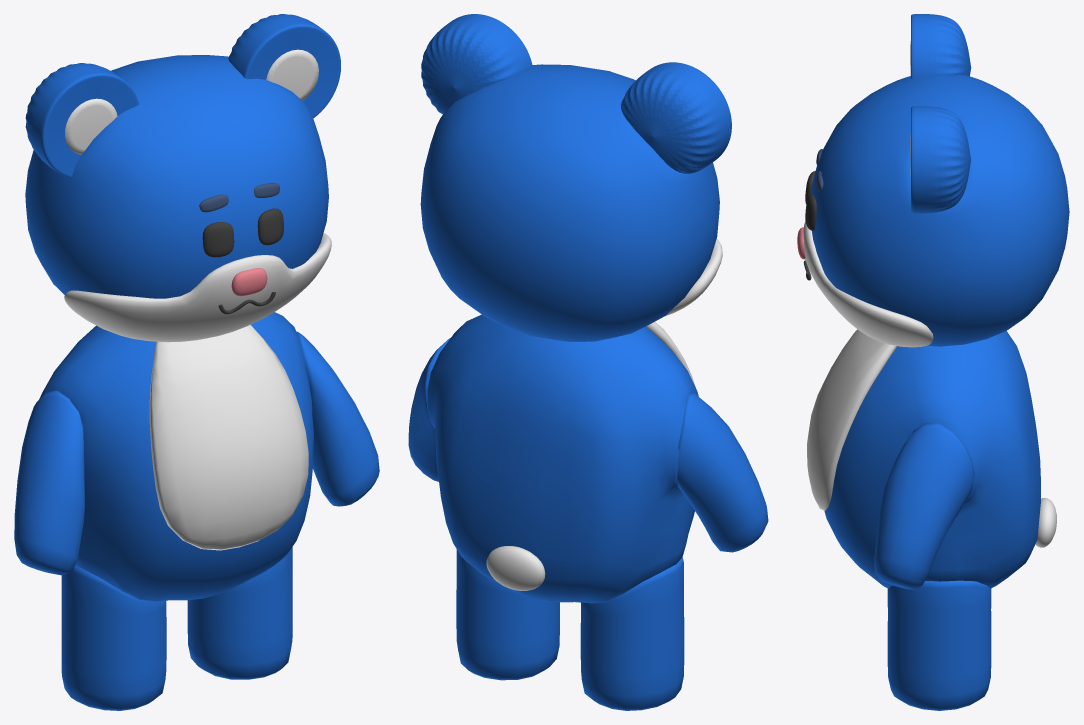
File: DigiBear.fbx
3 views of the same model, side by side, from view 1: azimuth 30°, elevation 25°; view 2: azimuth 150°, elevation 25°; view 3: azimuth 270°, elevation 25° (orthographic). The views are drawn at different scales.
Visible parts, largest first — view 1: Head, Torso, Belly, LegR, Ears, Face, ArmR, LegL, ArmL, EarPart, Eyes, Nose; view 2: Head, Torso, Ears, LegR, LegL, ArmR, ArmL, Tail, Face; view 3: Head, Torso, LegL, ArmL, Ears, Belly, Face, Tail, Eyes.
Part boxes in pixels (box(x1,y1,x2,y2)): Head: box(25, 55, 328, 298); Torso: box(39, 312, 313, 601); Belly: box(149, 325, 308, 550); LegR: box(61, 565, 166, 710); Ears: box(25, 14, 340, 177); Face: box(64, 233, 331, 342); ArmR: box(14, 390, 84, 575); LegL: box(187, 547, 292, 679); ArmL: box(296, 331, 379, 506); EarPart: box(65, 49, 318, 154); Eyes: box(202, 208, 283, 257); Nose: box(231, 268, 267, 296); Head: box(420, 64, 719, 341); Torso: box(427, 314, 698, 603); Ears: box(421, 14, 731, 173); LegR: box(580, 557, 684, 710); LegL: box(456, 549, 559, 680); ArmR: box(677, 392, 768, 552); ArmL: box(408, 338, 450, 481); Tail: box(486, 546, 545, 590); Face: box(666, 239, 722, 315); Head: box(811, 74, 1069, 346); Torso: box(824, 331, 1040, 588); LegL: box(887, 580, 991, 710); ArmL: box(874, 422, 974, 589); Ears: box(911, 14, 971, 213); Belly: box(807, 329, 897, 510); Face: box(803, 221, 933, 347); Tail: box(1035, 498, 1056, 547); Eyes: box(805, 171, 816, 230).
Size of the model in its own units: 215 by 368 by 151.
